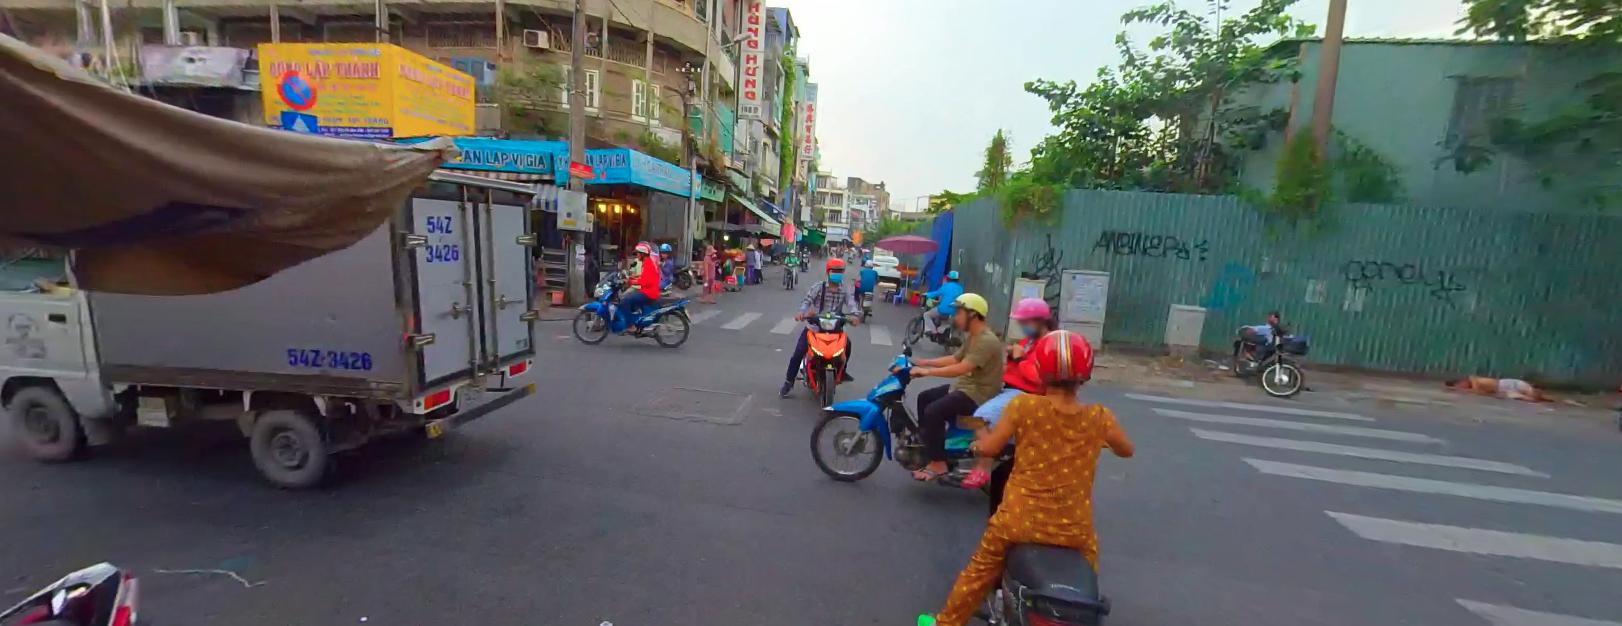Cam dung va do: (274, 71, 319, 111)
